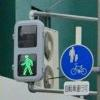traffic lights: (12, 20, 44, 80)
